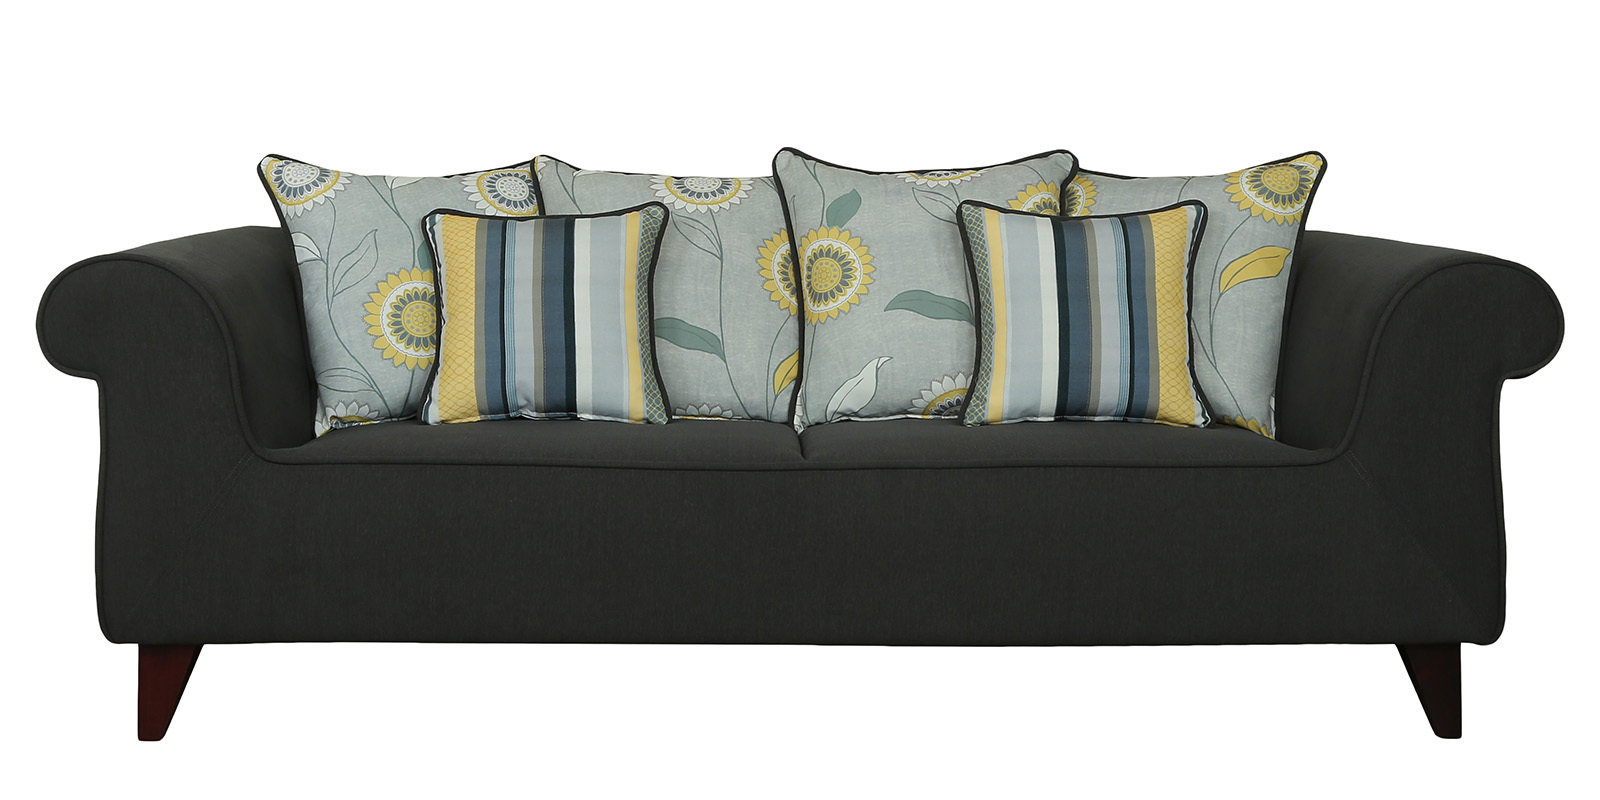Cielo Three Seater Sofa in Charcoal Grey Colour by CasaCraft: (24, 145, 1573, 774)
